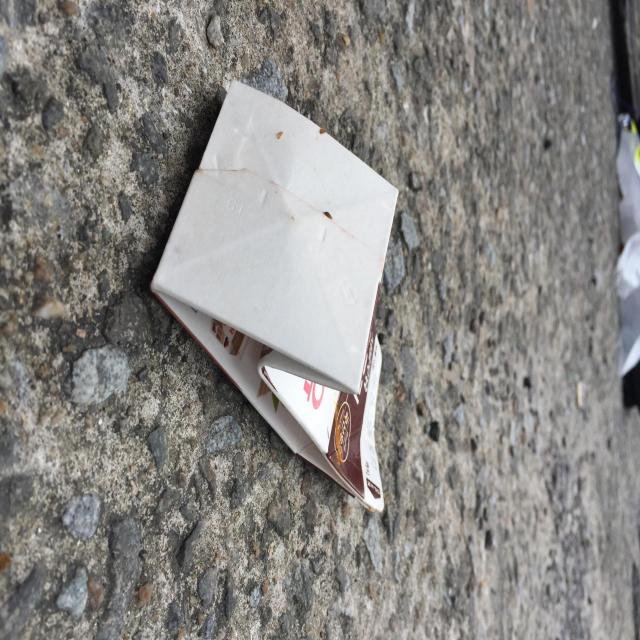paperpack: (151, 80, 398, 512)
